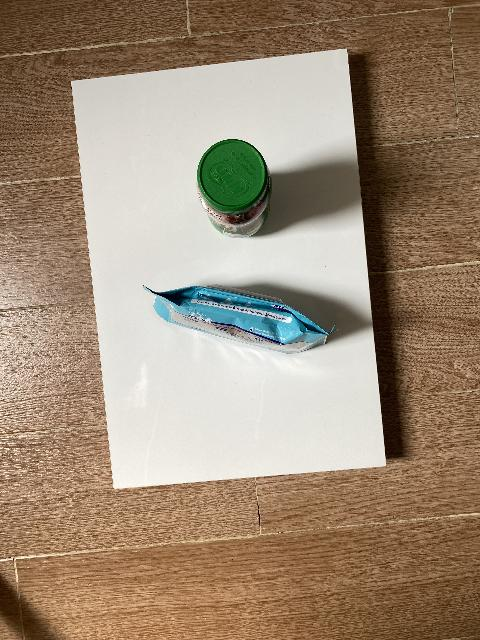Let-green_alcohol_wipes: (141, 284, 339, 354)
milo: (196, 139, 272, 239)
